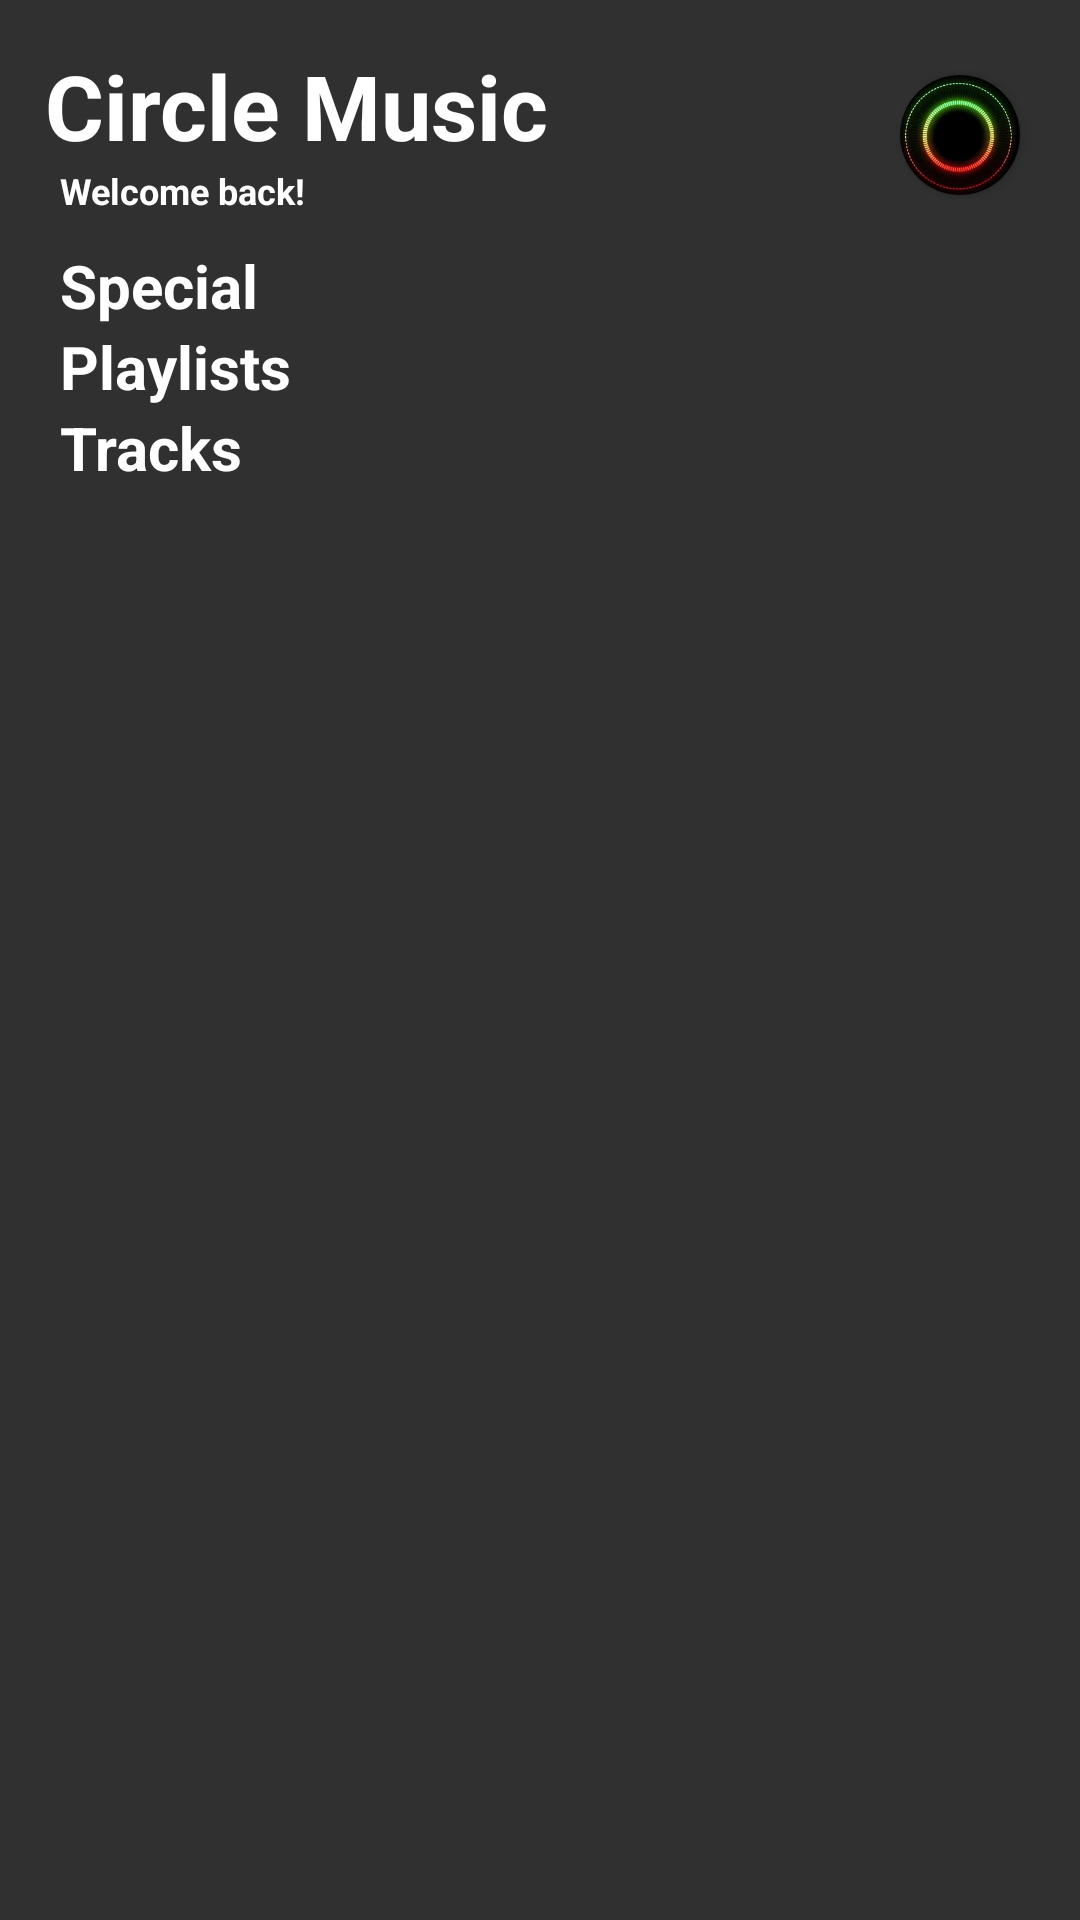

Where icons sit on this 1080px×1920px app screen, as {"x1": x1, "y1": y1, "x2": x2, "y2": y2}:
neonmusicicon: {"x1": 900, "y1": 75, "x2": 1020, "y2": 195}
